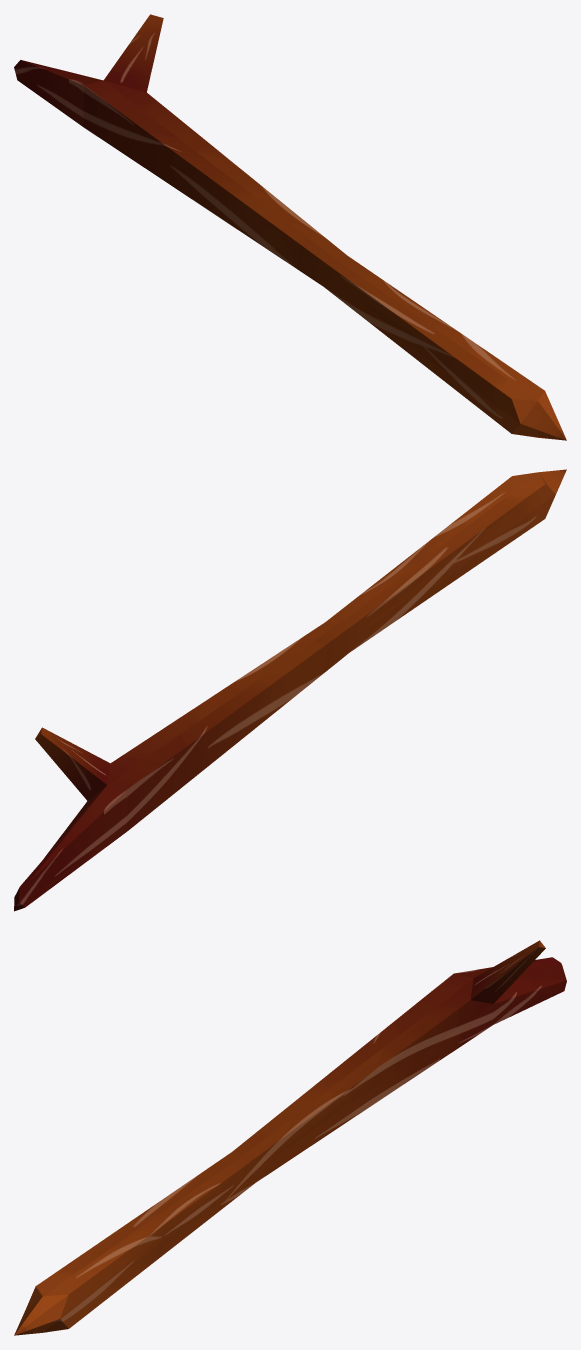
File: Stick_Iteration_1.obj
3 renders of one model, top to bottom at view 1: azimuth 30°, elevation 25°; view 2: azimuth 150°, elevation 25°; view 3: azimuth 330°, elevation 25°, orthographic.
Parts seen in each view (by area): view 1: Stick_Iteration_1; view 2: Stick_Iteration_1; view 3: Stick_Iteration_1.
Boxes of the visible parts, x1=… form: Stick_Iteration_1: x1=14, y1=14, x2=566, y2=440; Stick_Iteration_1: x1=14, y1=469, x2=566, y2=911; Stick_Iteration_1: x1=14, y1=940, x2=566, y2=1335.
Bounding box in the file's own units: 2.07 × 2.64 × 23.86.
